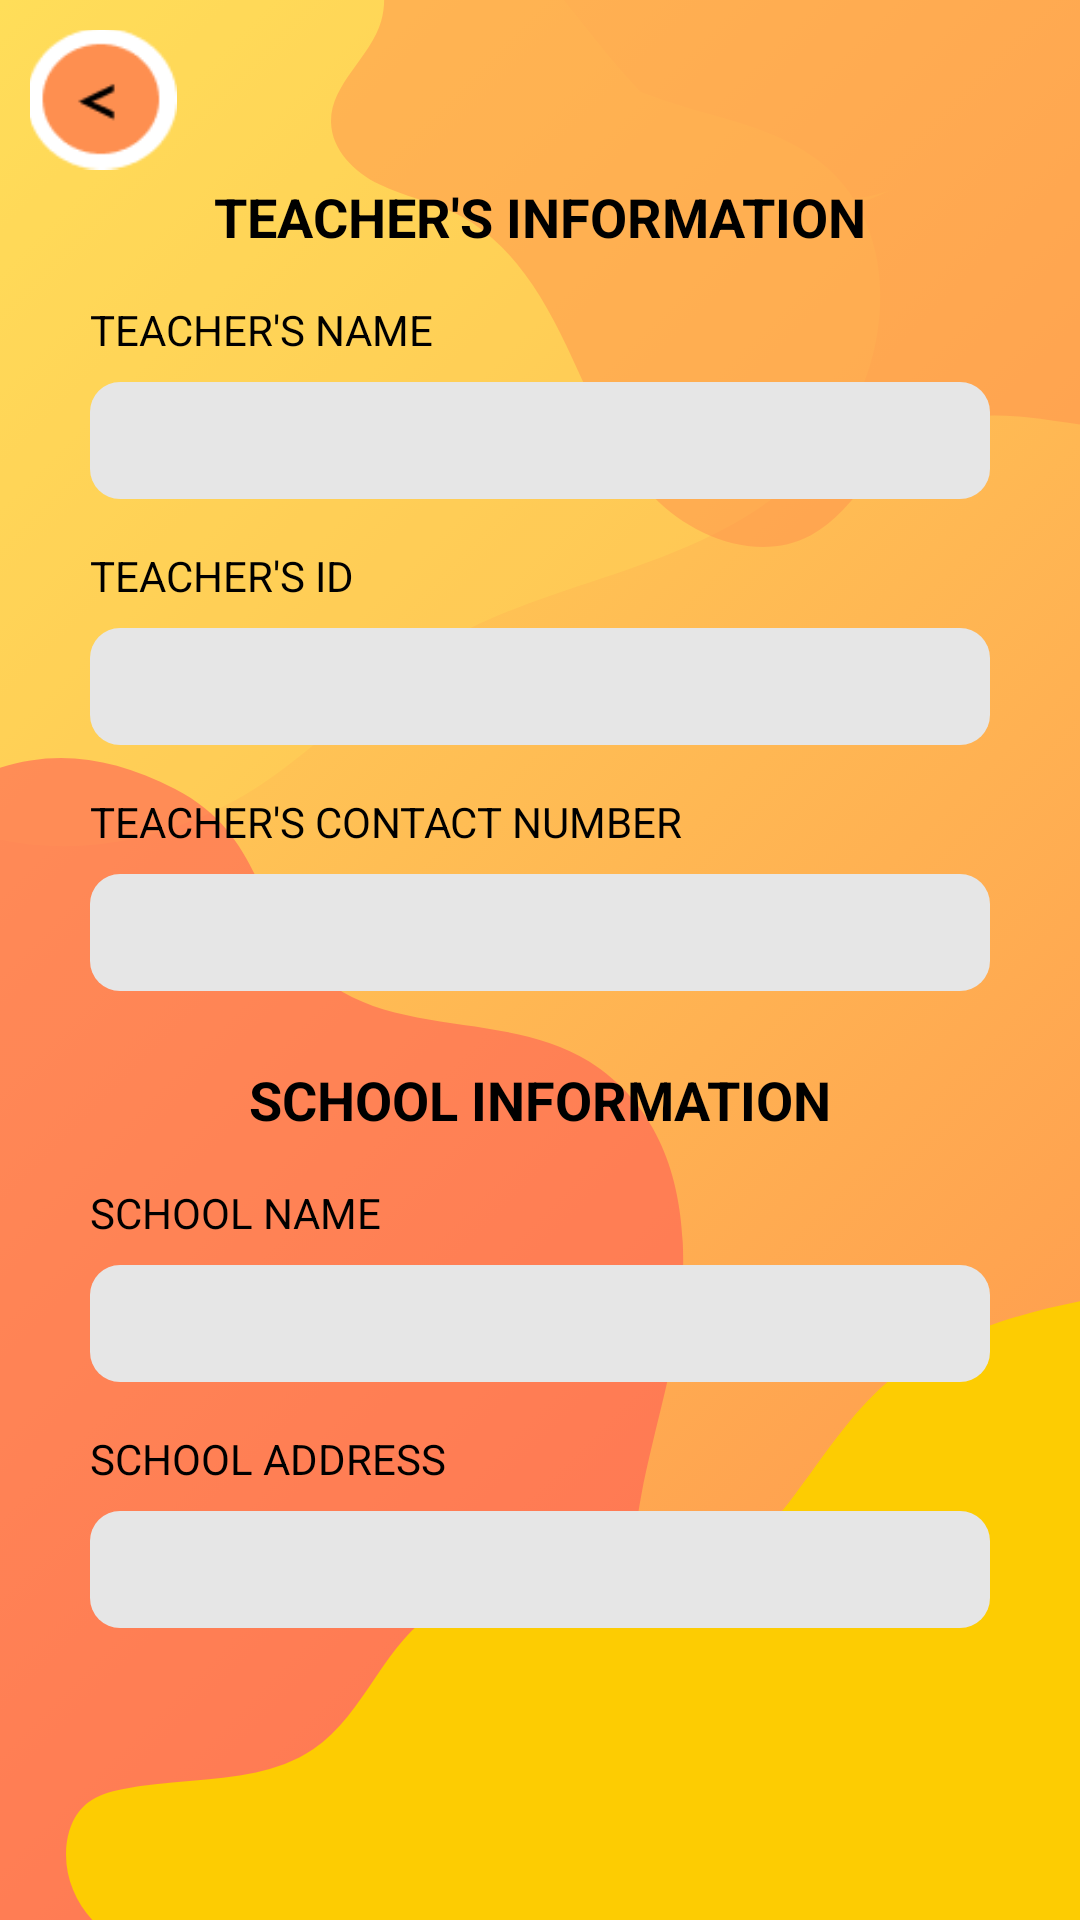

Screen size 1080 x 1920. Icon name, then its center in pixels as [x,y]:
Back: [103,100]
